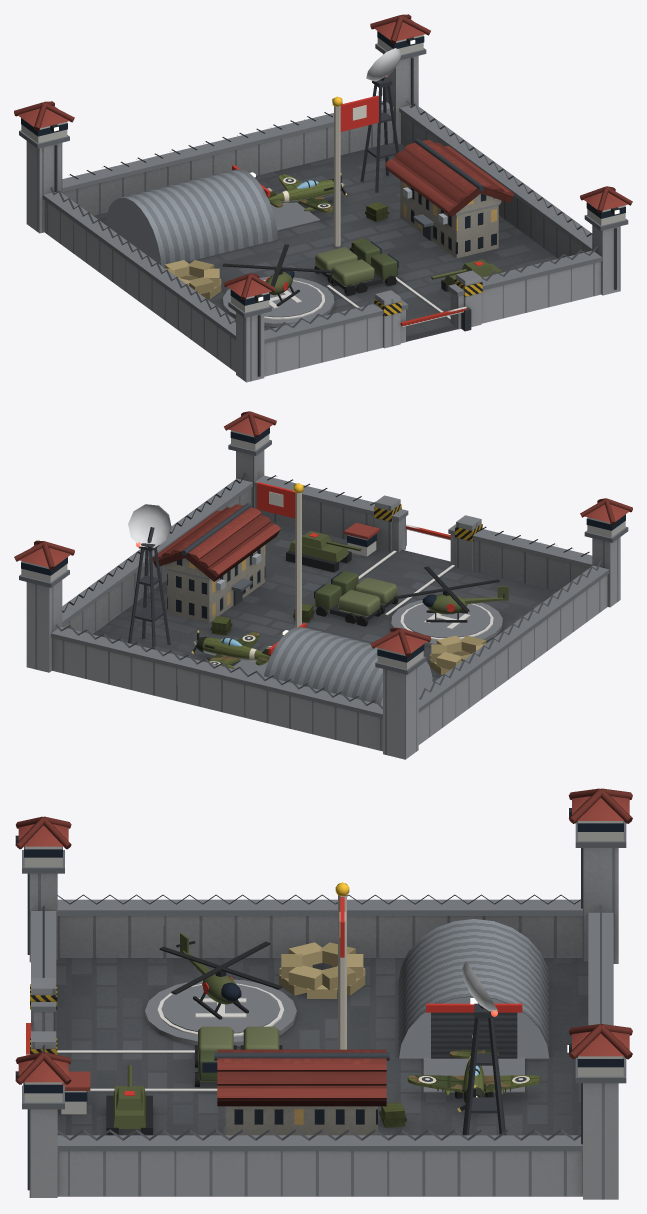
The model's file is military_base_modern_red.glb.
The picture shows the model from 3 angles, top to bottom: view 1: azimuth 30°, elevation 25°; view 2: azimuth 150°, elevation 25°; view 3: azimuth 270°, elevation 25°; orthographic projection. The views are drawn at different scales.
Visible parts, largest first — view 1: military_base_modern_red; view 2: military_base_modern_red; view 3: military_base_modern_red.
Boxes of the visible parts, left/top/right/bottom form: military_base_modern_red: left=14, top=14, right=632, bottom=382; military_base_modern_red: left=14, top=411, right=632, bottom=759; military_base_modern_red: left=14, top=788, right=632, bottom=1199.
Size of the model in its own units: 1.23 by 0.456 by 1.22.
4 materials, 1 textured.
